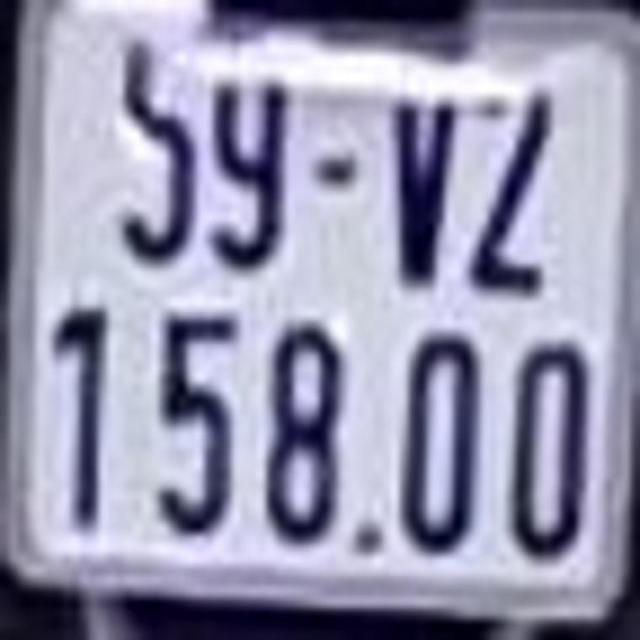0: (503, 326, 588, 564), (401, 320, 482, 561)
1: (40, 292, 116, 534)
2: (472, 71, 558, 292)
5: (150, 300, 242, 536), (116, 28, 199, 266)
8: (256, 305, 340, 546)
9: (210, 47, 288, 276)
V: (388, 69, 459, 292)
